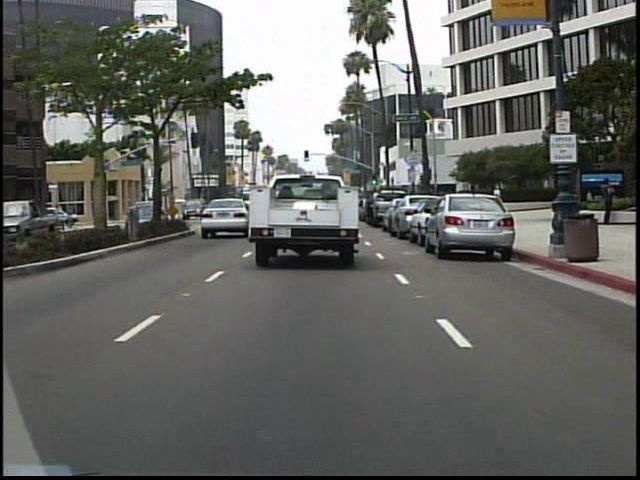person: (597, 175, 618, 229)
